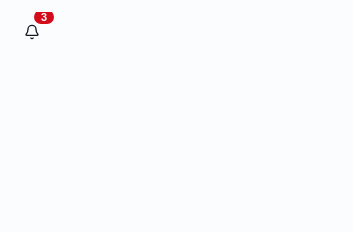
notification bell › shows the unread count and lists notifications
Press the mouse on the button named "Notifications, 3 unread" at (32, 32), box [12,12,52,52]
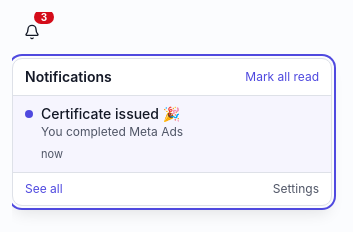
expect the text "Certificate issued 🎉" is shown: met, box [41,104,183,124]
